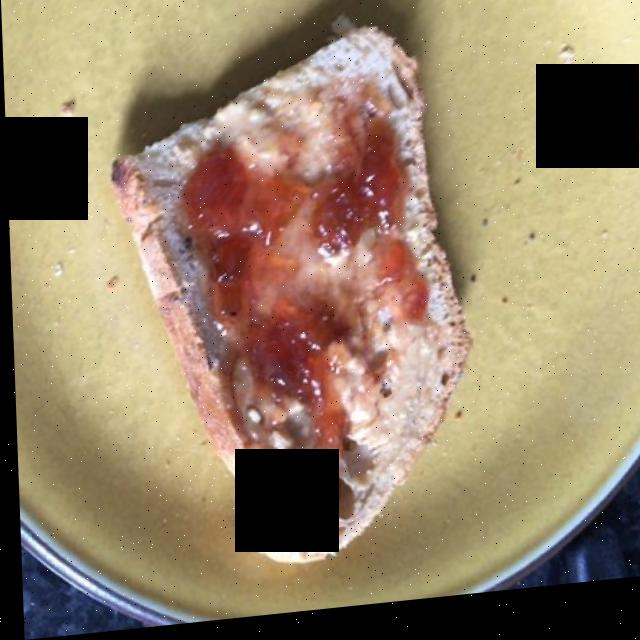bread-wholemeal: (116, 48, 437, 553)
jam: (174, 108, 429, 486)
